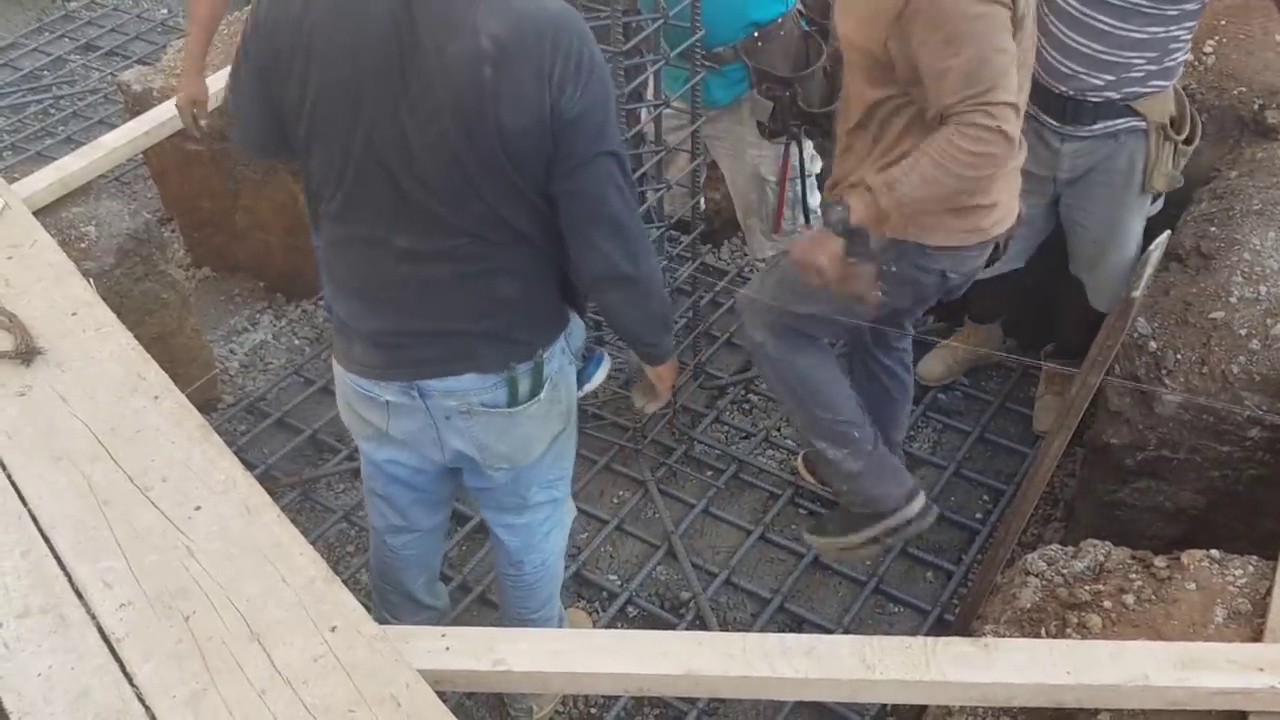person: (219, 1, 671, 670), (727, 0, 1041, 551), (1012, 0, 1209, 447), (638, 0, 788, 275)
